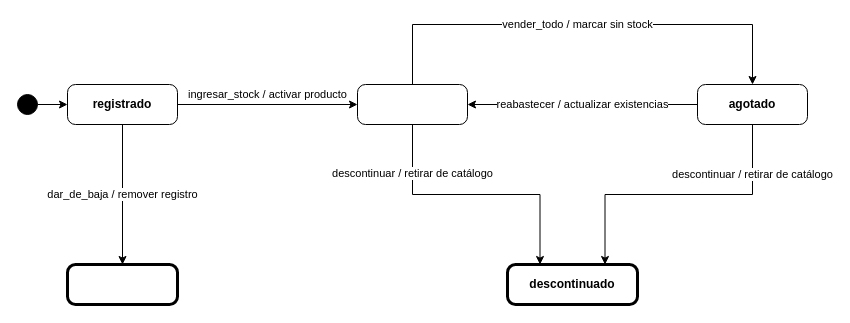
This 850x323 diagram has some shape labels left out. The box of each missing label's shape, as (x1, y1, x2, y2) in pixels:
baja: (66, 262, 178, 306)
disponible: (356, 84, 468, 124)
